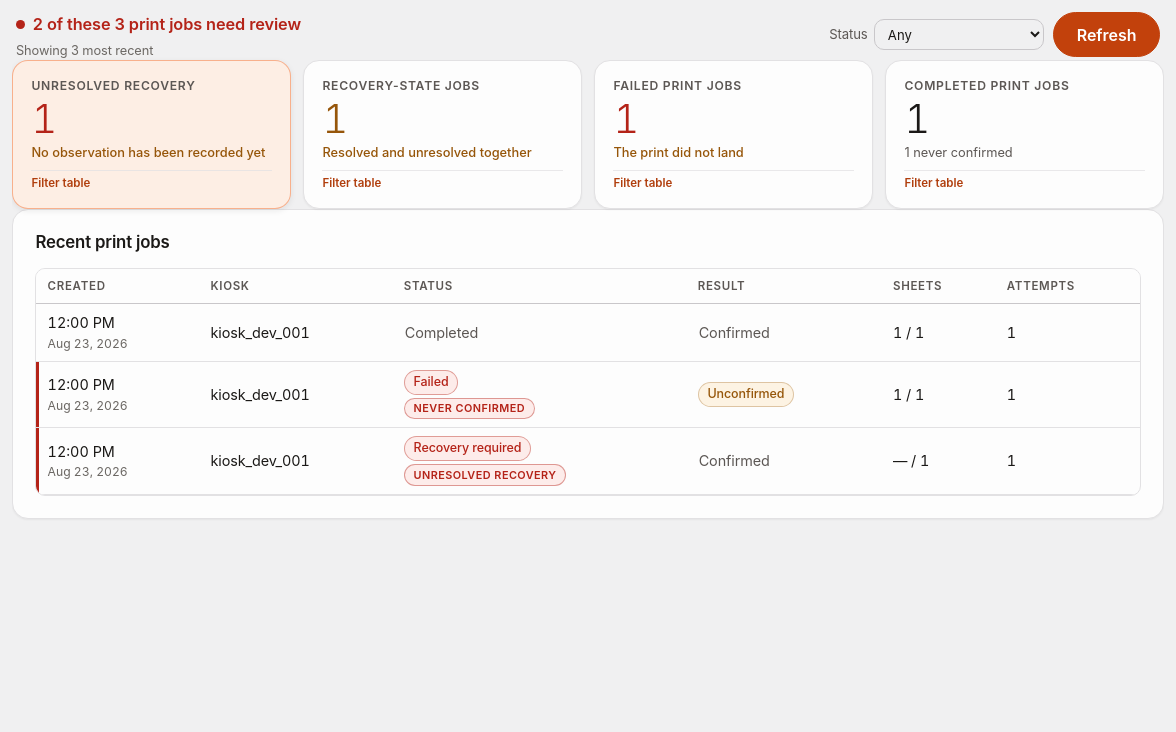
Test: Printing › sends a status tile to the server and syncs the dropdown
The image size is (1176, 732).
What coordinates should you click on to do the following:
click the button with aria-label "Failed print jobs: 1."
I would click on:
 (678, 86)
Its box is top-left (595, 62), bottom-right (872, 208).
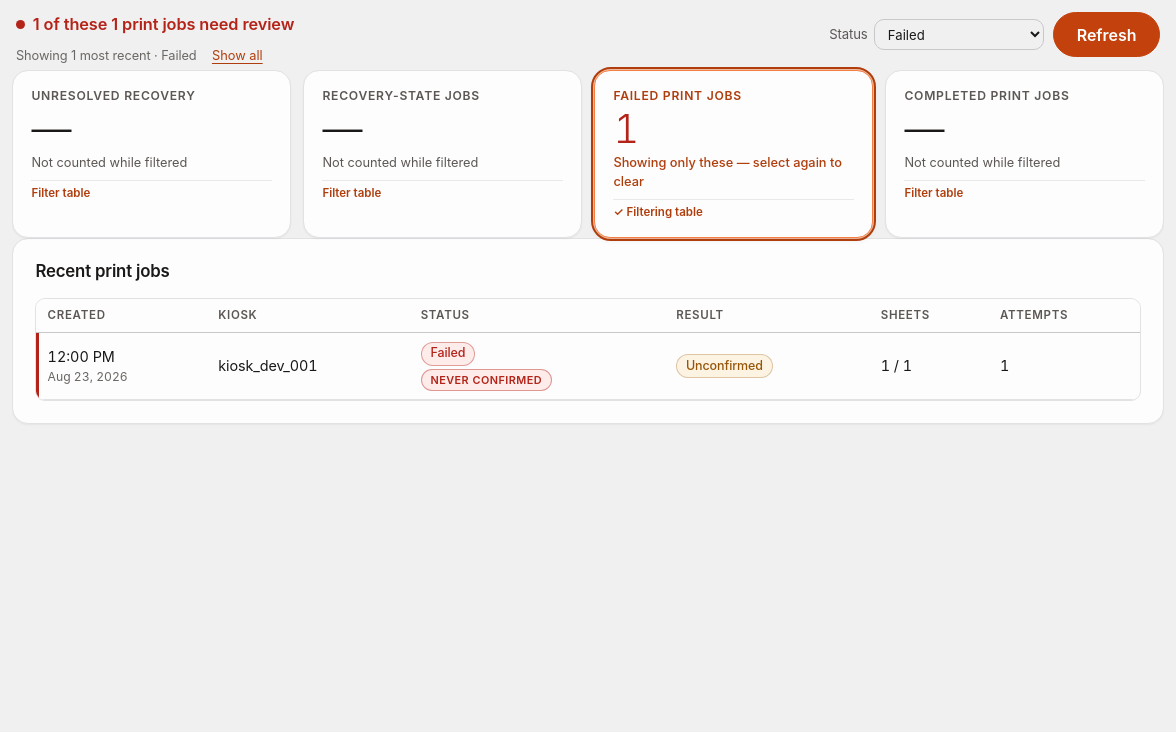
Expected: the dropdown labelled "Status" shows "Failed", top-left (874, 19), bottom-right (1044, 50)
